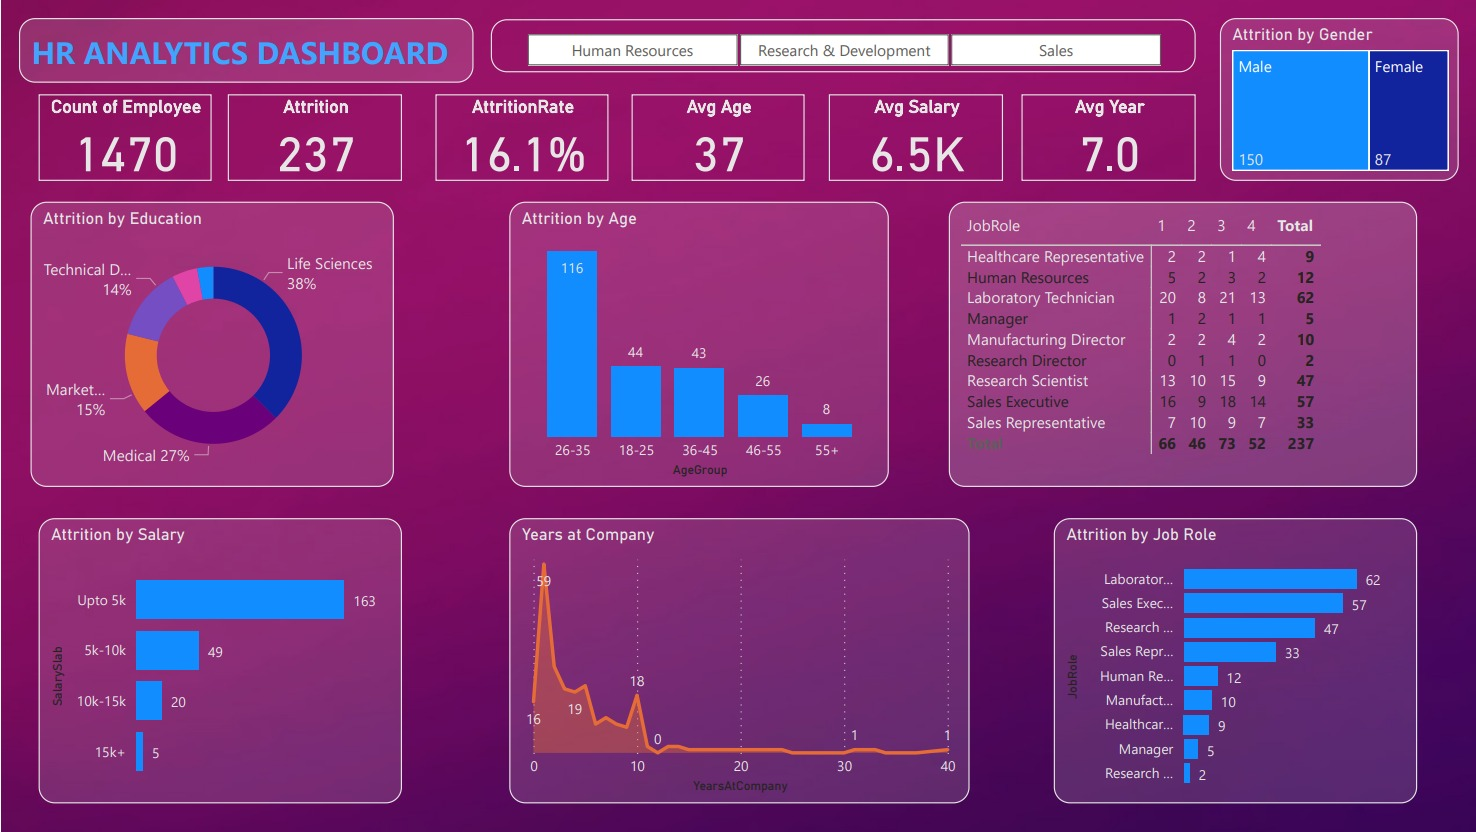

What the dashboard file says about the page in this screenshot:
{"tool":"powerbi","page":{"name":"Page 1","canvas":[1280,720],"ordinal":0},"visuals":[{"type":"card","title":"Count of Employee","fields":{"Values":["CountNonNull(HR_Analytics.EmpID)"]},"box":[31.5,80.9,150.8,75.4],"z":0},{"type":"card","title":"AttritionRate","fields":{"Values":["HR_Analytics.AttritionRate"]},"box":[375.7,80.9,150.8,75.4],"z":1000},{"type":"card","title":"Avg Age","fields":{"Values":["Avg(HR_Analytics.Age)"]},"box":[545.7,80.9,150.8,75.4],"z":2000},{"type":"card","title":"Attrition","fields":{"Values":["Sum(HR_Analytics.AttritionCount)"]},"box":[196.1,80.9,150.8,75.4],"z":3000},{"type":"card","title":"Avg Salary","fields":{"Values":["Avg(HR_Analytics.MonthlyIncome)"]},"box":[717.1,80.9,150.8,75.4],"z":4000},{"type":"card","title":"Avg Year","fields":{"Values":["Avg(HR_Analytics.YearsAtCompany)"]},"box":[884.3,80.9,150.8,75.4],"z":5000},{"type":"donutChart","title":"Attrition by Education","fields":{"Category":["HR_Analytics.EducationField"],"Y":["Sum(HR_Analytics.AttritionCount)"]},"box":[24.7,174.1,315.3,246.8],"z":6000},{"type":"columnChart","title":"Attrition by Age","fields":{"Category":["HR_Analytics.AgeGroup"],"Y":["Sum(HR_Analytics.AttritionCount)"]},"box":[440.1,174.1,329.1,246.8],"z":7000},{"type":"pivotTable","fields":{"Rows":["HR_Analytics.JobRole"],"Columns":["HR_Analytics.JobSatisfaction"],"Values":["Sum(HR_Analytics.AttritionCount)"]},"box":[821.3,174.1,405.8,246.8],"z":8000},{"type":"barChart","title":"Attrition by Salary","fields":{"Category":["HR_Analytics.SalarySlab"],"Y":["Sum(HR_Analytics.AttritionCount)"]},"box":[31.5,448.3,315.3,246.8],"z":9000},{"type":"barChart","title":"Attrition by Job Role","fields":{"Category":["HR_Analytics.JobRole"],"Y":["Sum(HR_Analytics.AttritionCount)"]},"box":[911.7,448.3,315.3,246.8],"z":10000},{"type":"areaChart","title":"Years at Company","fields":{"Category":["HR_Analytics.YearsAtCompany"],"Y":["Sum(HR_Analytics.AttritionCount)"]},"box":[440.1,448.3,399,246.8],"z":11000},{"type":"treemap","title":"Attrition by Gender","fields":{"Group":["HR_Analytics.Gender"],"Values":["Sum(HR_Analytics.AttritionCount)"]},"box":[1055.7,15.1,207,141.2],"z":12000},{"type":"textbox","box":[15.1,15.1,393.5,56.2],"z":13000},{"type":"slicer","fields":{"Values":["HR_Analytics.Department"]},"box":[423.7,16.5,611.5,45.2],"z":13001}]}

Visuals, with their boxes in screenshot pixels (x1, y1, x2, y2), scaled from the page's 1280x720 canvas onto the 1476x832 screenshot:
"Count of Employee" card: 36,93,210,181
"AttritionRate" card: 433,93,607,181
"Avg Age" card: 629,93,803,181
"Attrition" card: 226,93,400,181
"Avg Salary" card: 827,93,1001,181
"Avg Year" card: 1020,93,1194,181
"Attrition by Education" donutChart: 28,201,392,486
"Attrition by Age" columnChart: 507,201,887,486
pivotTable - HR_Analytics.JobRole x HR_Analytics.JobSatisfaction: 947,201,1415,486
"Attrition by Salary" barChart: 36,518,400,803
"Attrition by Job Role" barChart: 1051,518,1415,803
"Years at Company" areaChart: 507,518,968,803
"Attrition by Gender" treemap: 1217,17,1456,181
textbox: 17,17,471,82
slicer - HR_Analytics.Department: 489,19,1194,71
